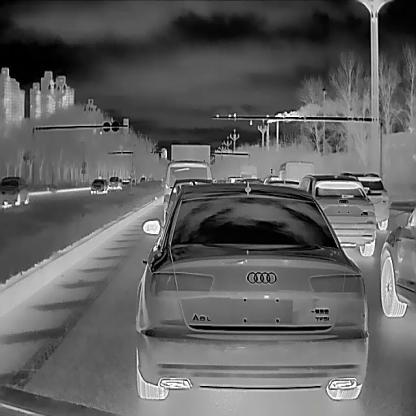car: (135, 183, 369, 400), (294, 174, 377, 256), (379, 199, 415, 316), (341, 171, 390, 230), (163, 159, 211, 218), (278, 160, 314, 188), (0, 176, 29, 208), (90, 178, 107, 194), (109, 176, 120, 190)
